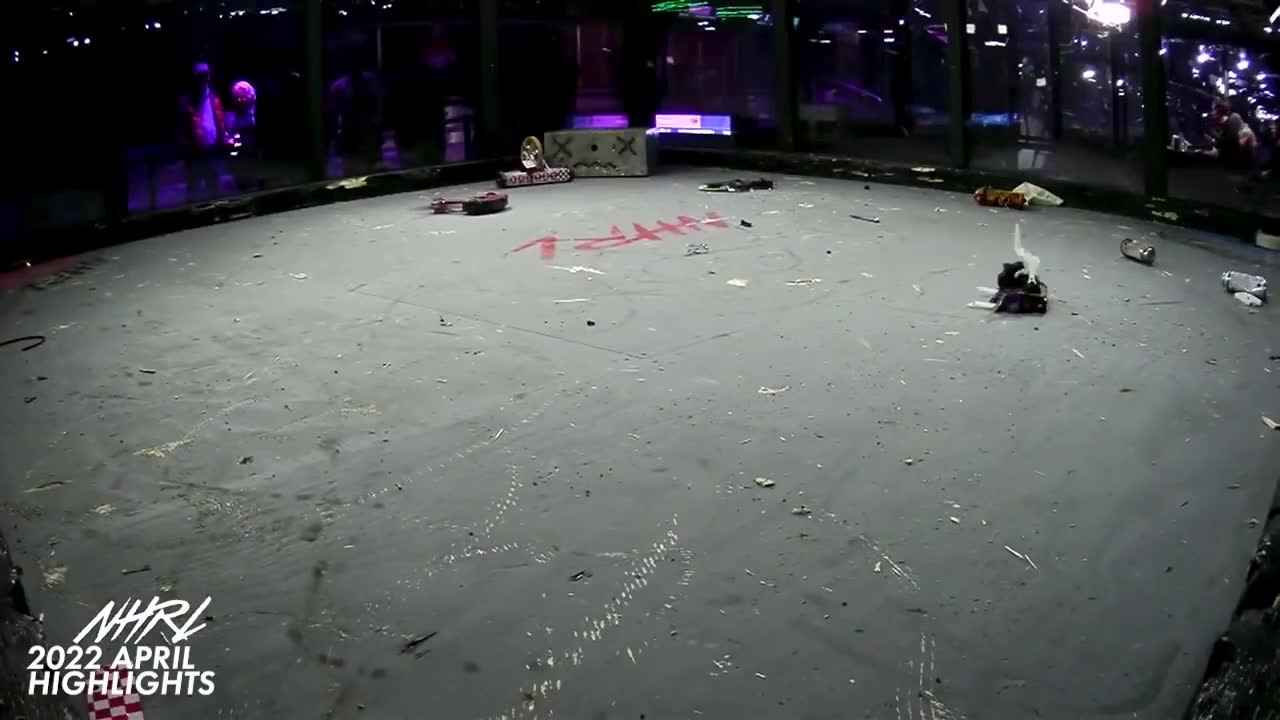belt: (0, 334, 49, 354)
combatbot: (988, 222, 1052, 314), (499, 136, 574, 186), (427, 189, 511, 216), (1013, 174, 1067, 213), (972, 183, 1028, 210), (700, 173, 776, 192)
debris: (1220, 269, 1273, 309), (1117, 237, 1158, 266)
housebot: (545, 129, 661, 178)
